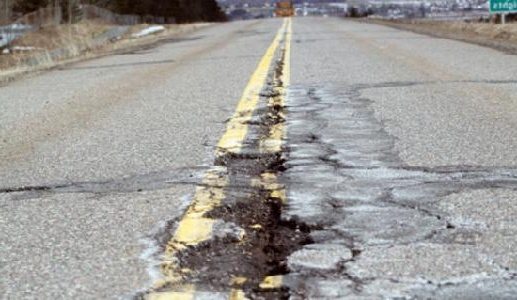pothole: (181, 194, 317, 299), (210, 148, 289, 175)
